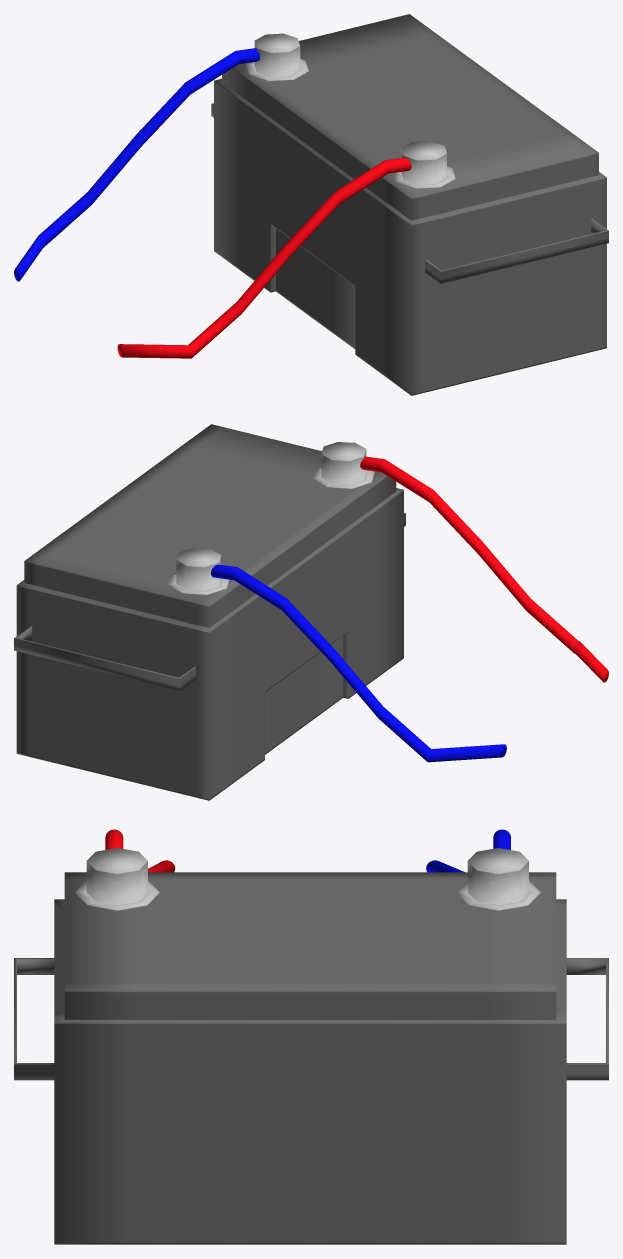
Rendered from Lightning_Trap.fbx.
3 views of the same model, one above another, from view 1: azimuth 30°, elevation 25°; view 2: azimuth 150°, elevation 25°; view 3: azimuth 270°, elevation 25° (orthographic). The views are drawn at different scales.
Visible parts, largest first — view 1: Car_Battery_SM, Red_Cable_SM, Blue_cable_SM, Car_Battery_Metal_Part_SM.001, Car_Battery_Metal_Part_SM; view 2: Car_Battery_SM, Blue_cable_SM, Red_Cable_SM, Car_Battery_Metal_Part_SM, Car_Battery_Metal_Part_SM.001; view 3: Car_Battery_SM, Car_Battery_Metal_Part_SM, Car_Battery_Metal_Part_SM.001, Blue_cable_SM, Red_Cable_SM.
Boxes of the visible parts, x1=… form: Car_Battery_SM: x1=211, y1=14, x2=608, y2=395; Red_Cable_SM: x1=117, y1=157, x2=411, y2=358; Blue_cable_SM: x1=14, y1=48, x2=260, y2=281; Car_Battery_Metal_Part_SM.001: x1=246, y1=33, x2=308, y2=81; Car_Battery_Metal_Part_SM: x1=393, y1=141, x2=455, y2=188; Car_Battery_SM: x1=14, y1=424, x2=405, y2=800; Blue_cable_SM: x1=211, y1=564, x2=506, y2=762; Red_Cable_SM: x1=360, y1=456, x2=608, y2=682; Car_Battery_Metal_Part_SM: x1=312, y1=442, x2=374, y2=488; Car_Battery_Metal_Part_SM.001: x1=168, y1=548, x2=229, y2=594; Car_Battery_SM: x1=14, y1=872, x2=608, y2=1244; Car_Battery_Metal_Part_SM: x1=75, y1=848, x2=159, y2=910; Car_Battery_Metal_Part_SM.001: x1=456, y1=848, x2=540, y2=910; Blue_cable_SM: x1=426, y1=829, x2=510, y2=872; Red_Cable_SM: x1=105, y1=829, x2=175, y2=872.
Bounding box in the file's own units: 108 × 50.79 × 96.52.
4 materials, 1 textured.
